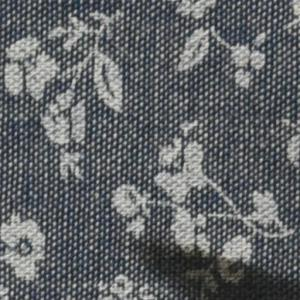Stain: (131, 231, 300, 300)
